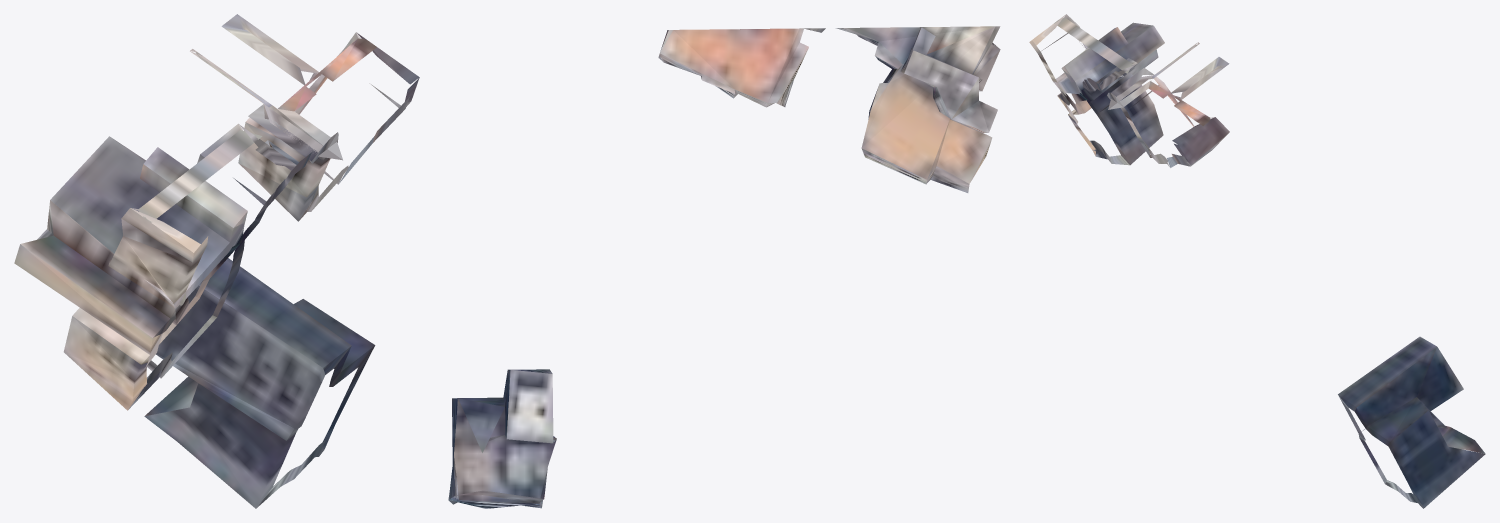
3 renders of one model, left to right at view 1: azimuth 30°, elevation 25°; view 2: azimuth 150°, elevation 25°; view 3: azimuth 270°, elevation 25°, orthographic. The views are drawn at different scales.
Size of the model in its own units: 60.83 by 64.08 by 70.32.
1 material, 1 textured.
